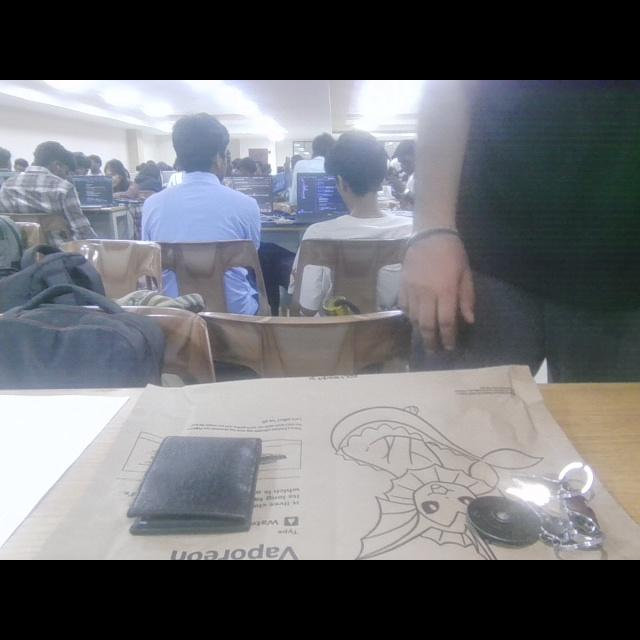wallet: (117, 413, 283, 549)
